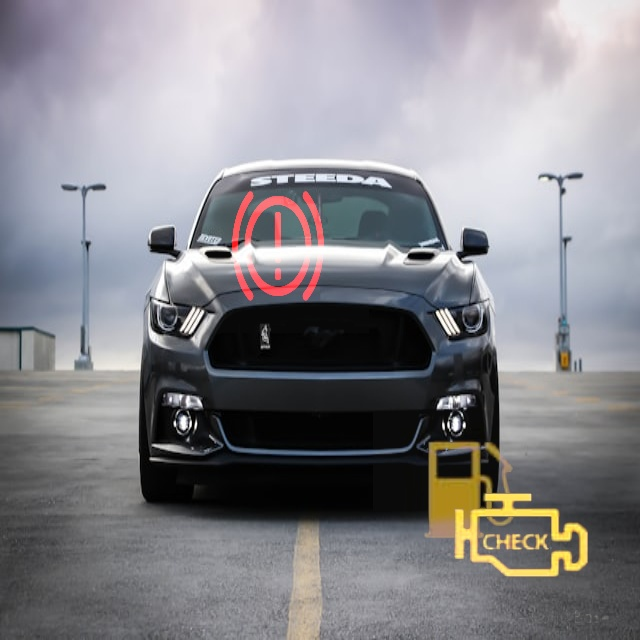symbol: (423, 439, 617, 633), (373, 396, 565, 588), (186, 150, 369, 333)
